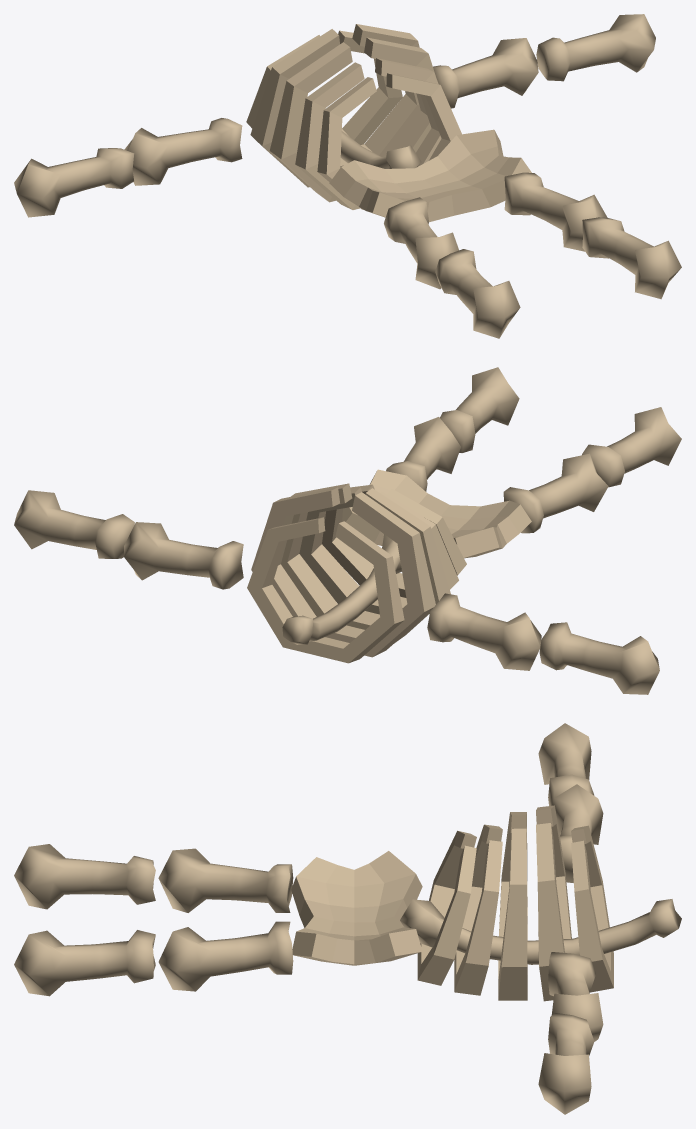
Rendered from Skeleton_body.glb.
The picture shows the model from 3 angles, top to bottom: view 1: azimuth 30°, elevation 25°; view 2: azimuth 150°, elevation 25°; view 3: azimuth 270°, elevation 25°; orthographic projection. The views are drawn at different scales.
Visible parts, largest first — view 1: Cylinder.001; view 2: Cylinder.001; view 3: Cylinder.001.
Part boxes in pixels (<box>): Cylinder.001: <box>14,14,681,338</box>; Cylinder.001: <box>14,367,681,694</box>; Cylinder.001: <box>14,723,681,1114</box>.
Size of the model in its own units: 2.76 by 0.6189 by 2.26.
